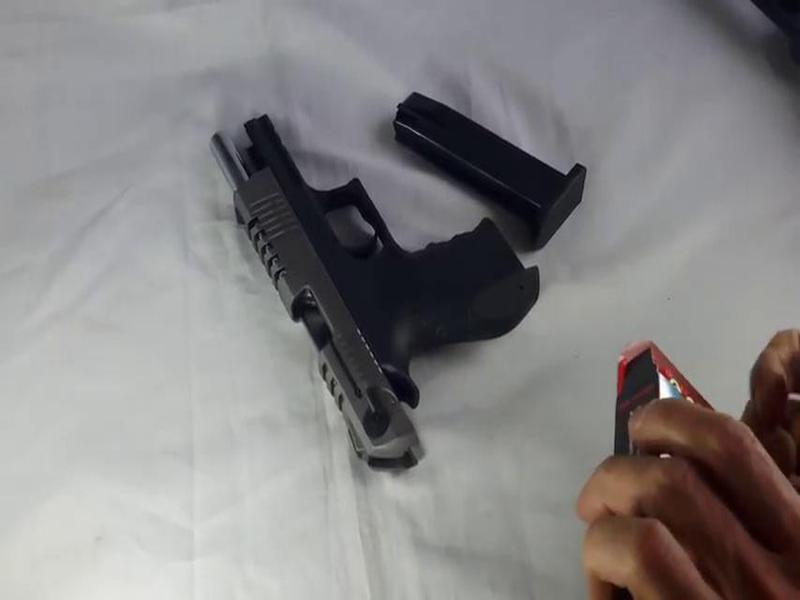Pistola: (203, 101, 564, 485)
